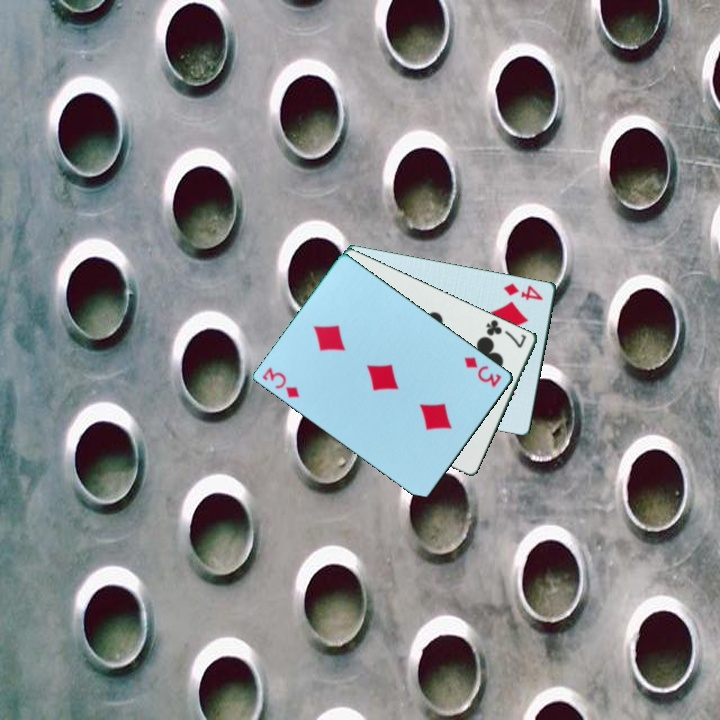3d: (461, 353, 505, 390), (259, 364, 303, 401)
4d: (500, 279, 546, 303)
7c: (482, 316, 530, 351)
